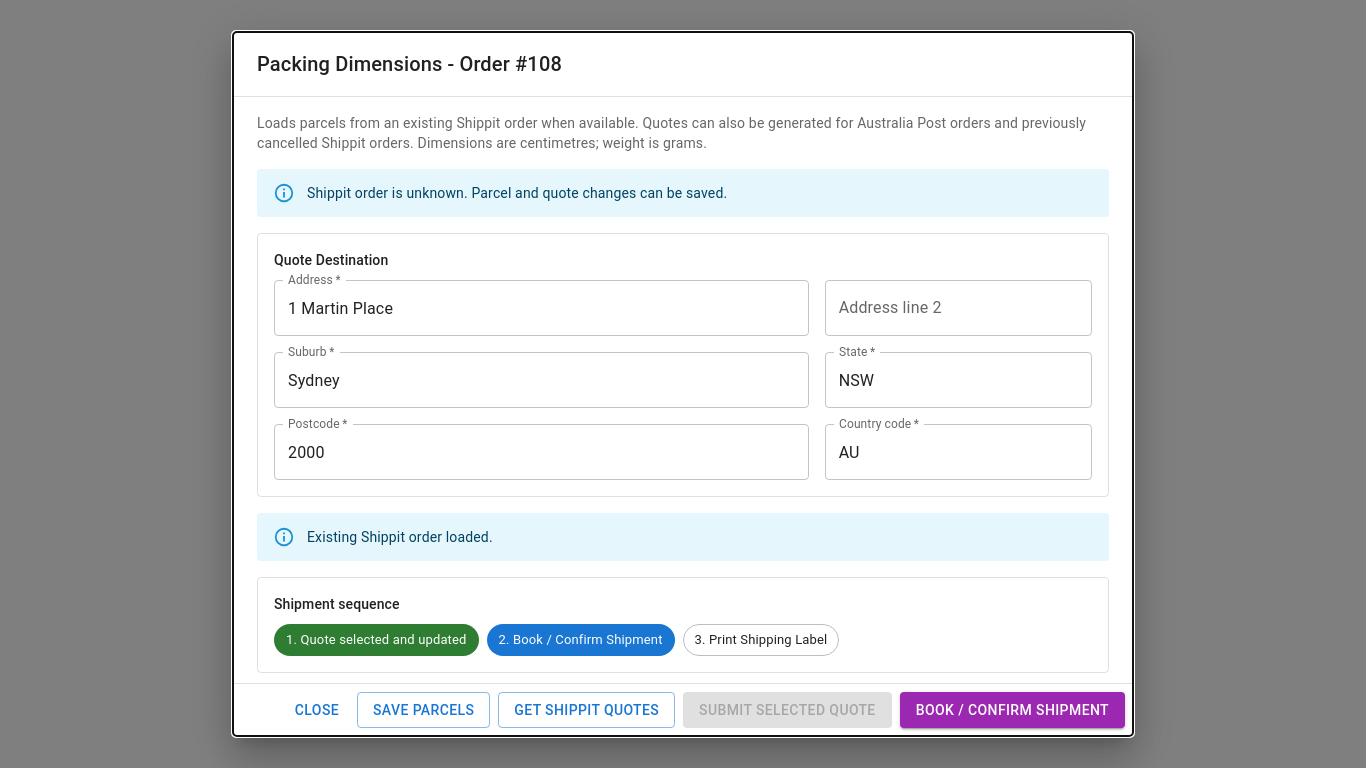
Test: PackingDimensionsDialog › prevents duplicate booking requests and shows the server error
Click the button "Book / Confirm Shipment": x=1012, y=710 top-left (900, 692), bottom-right (1125, 728)
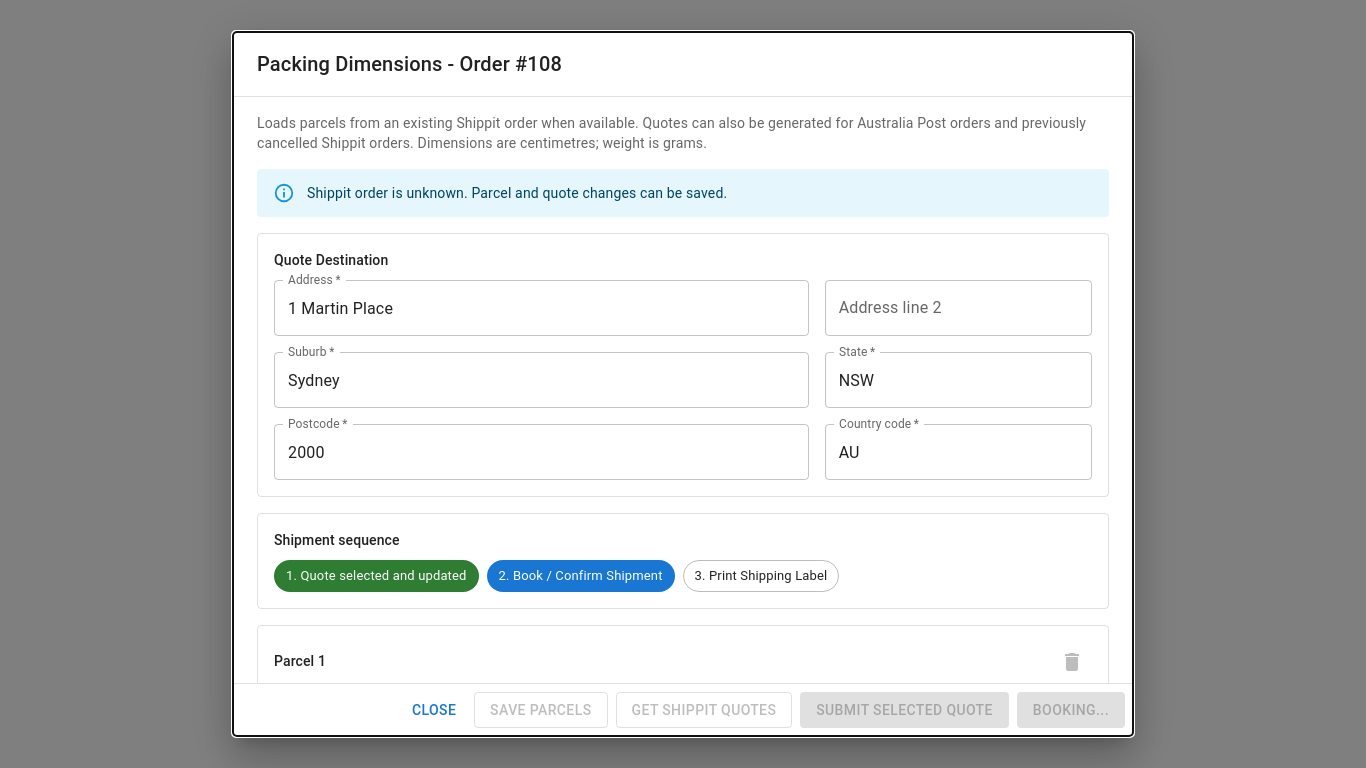
Click the button named "Book / Confirm Shipment": x=1071, y=710 top-left (1017, 692), bottom-right (1125, 728)
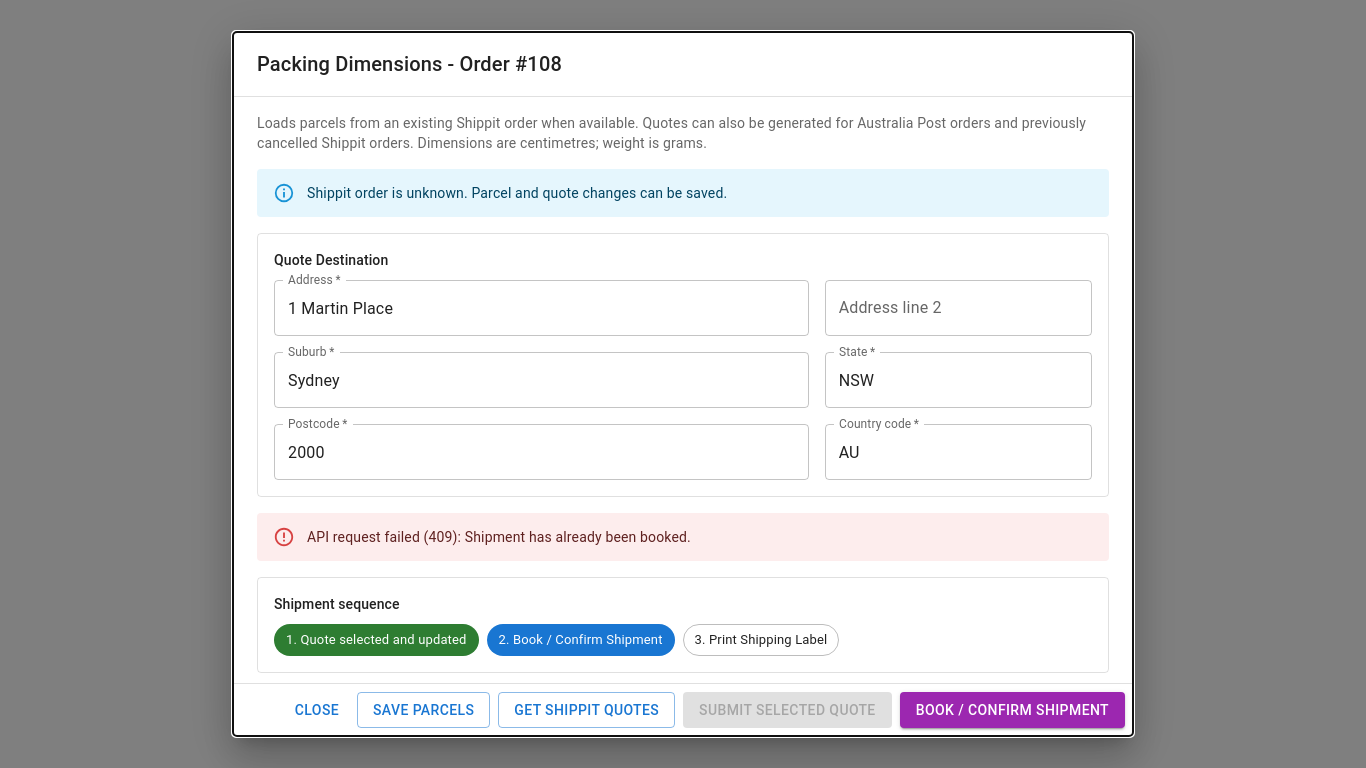
Check: the text "API request failed (409): Shipment has already been booked." is shown, box top-left (307, 529), bottom-right (691, 545)
